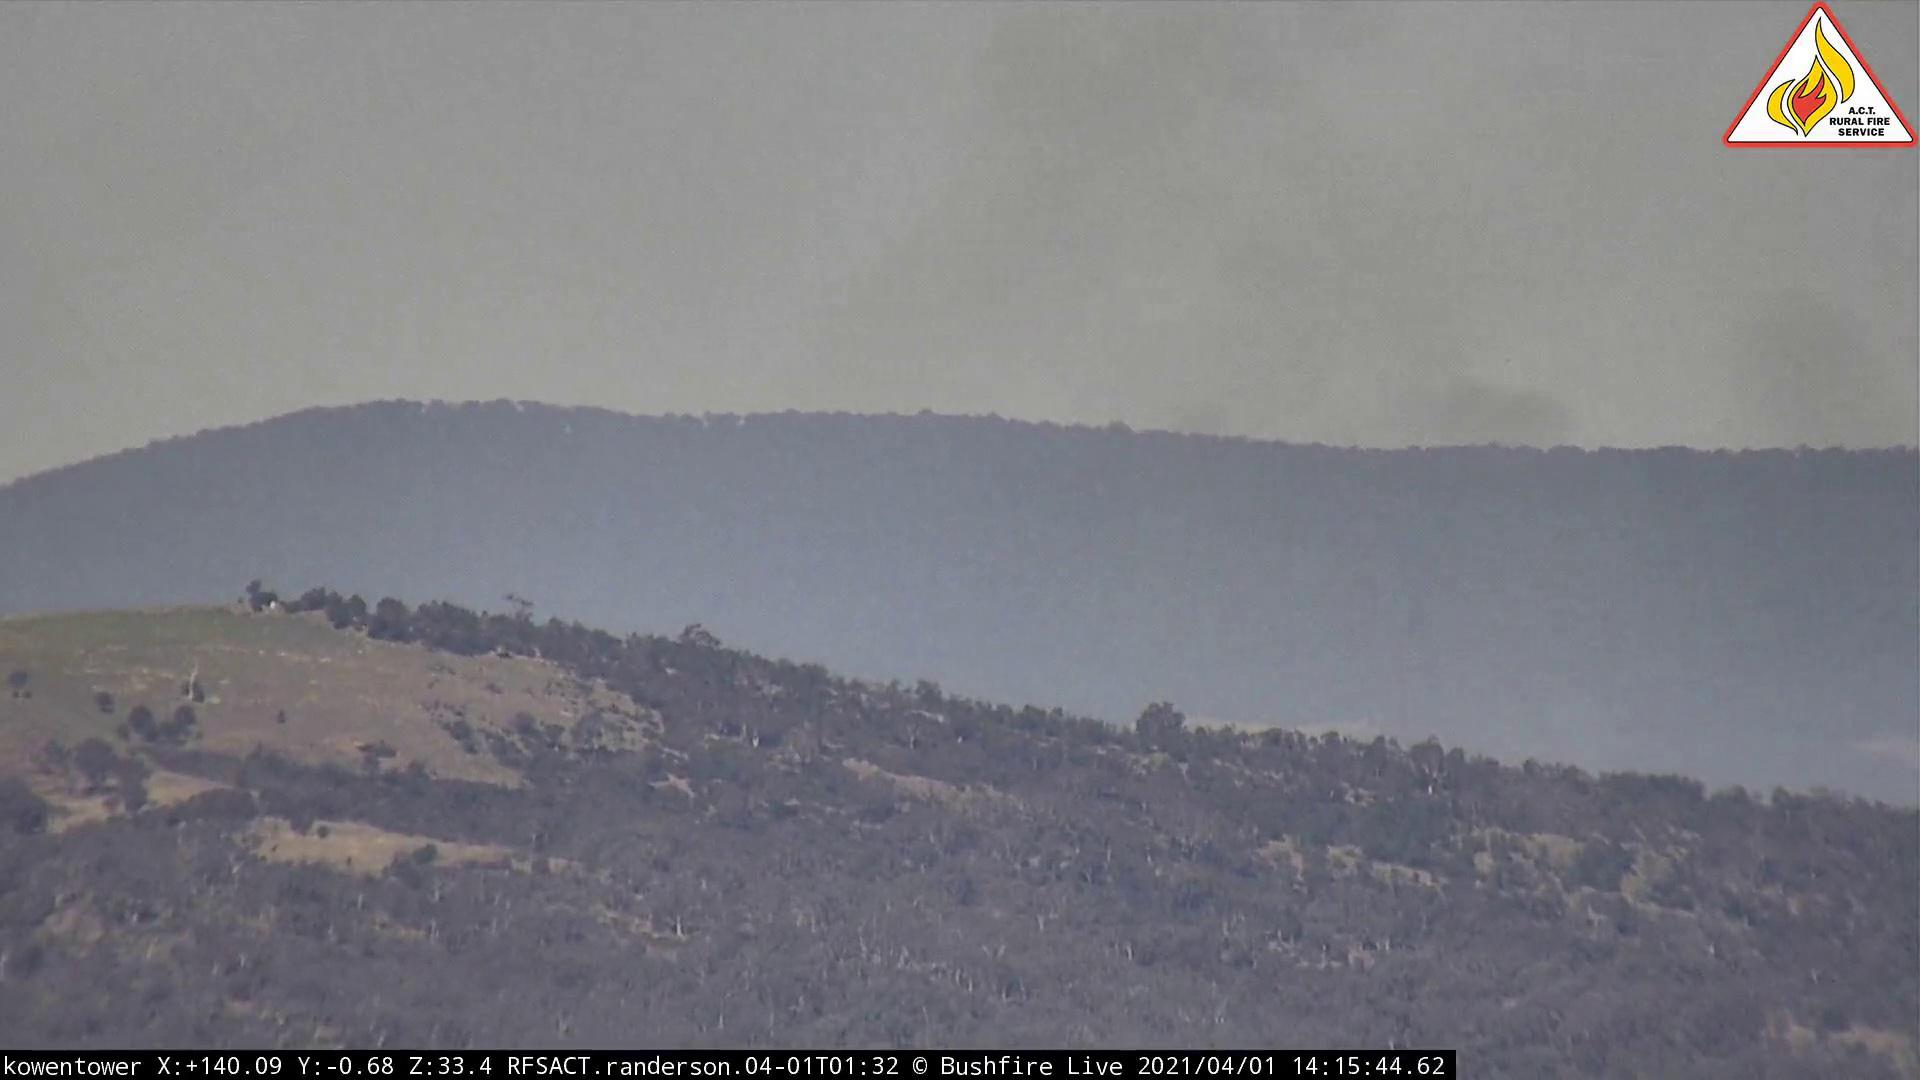Smoke: (778, 9, 1648, 520)
